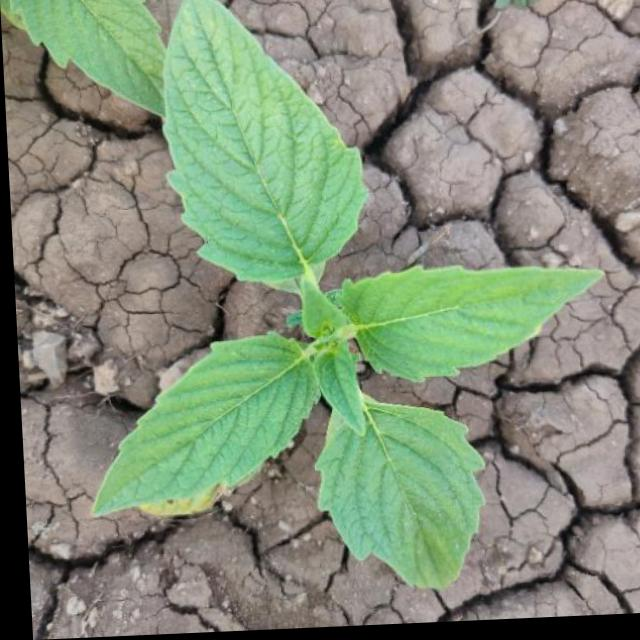crop: (63, 0, 618, 604)
